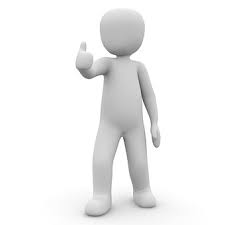thumbs_up: (69, 35, 105, 84)
